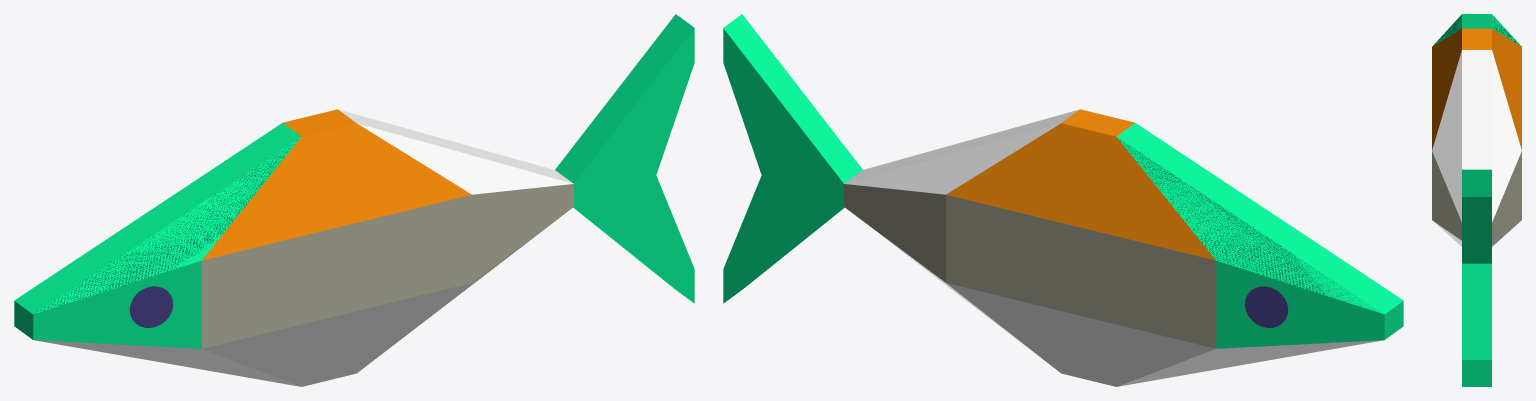
File: lowpolyfish.obj
3 renders of one model, left to right at view 1: azimuth 30°, elevation 25°; view 2: azimuth 150°, elevation 25°; view 3: azimuth 270°, elevation 25°, orthographic. The views are drawn at different scales.
Visible parts, largest first — view 1: SketchUp, SketchUp_ID46; view 2: SketchUp, SketchUp_ID46; view 3: SketchUp, SketchUp_ID46.
Boxes of the visible parts, bbox=[...] form: SketchUp: bbox=[14, 14, 694, 386]; SketchUp_ID46: bbox=[202, 109, 471, 260]; SketchUp: bbox=[723, 14, 1403, 386]; SketchUp_ID46: bbox=[946, 109, 1215, 260]; SketchUp: bbox=[1432, 14, 1521, 386]; SketchUp_ID46: bbox=[1432, 28, 1521, 149].
Size of the model in its own units: 100 by 40 by 15.
